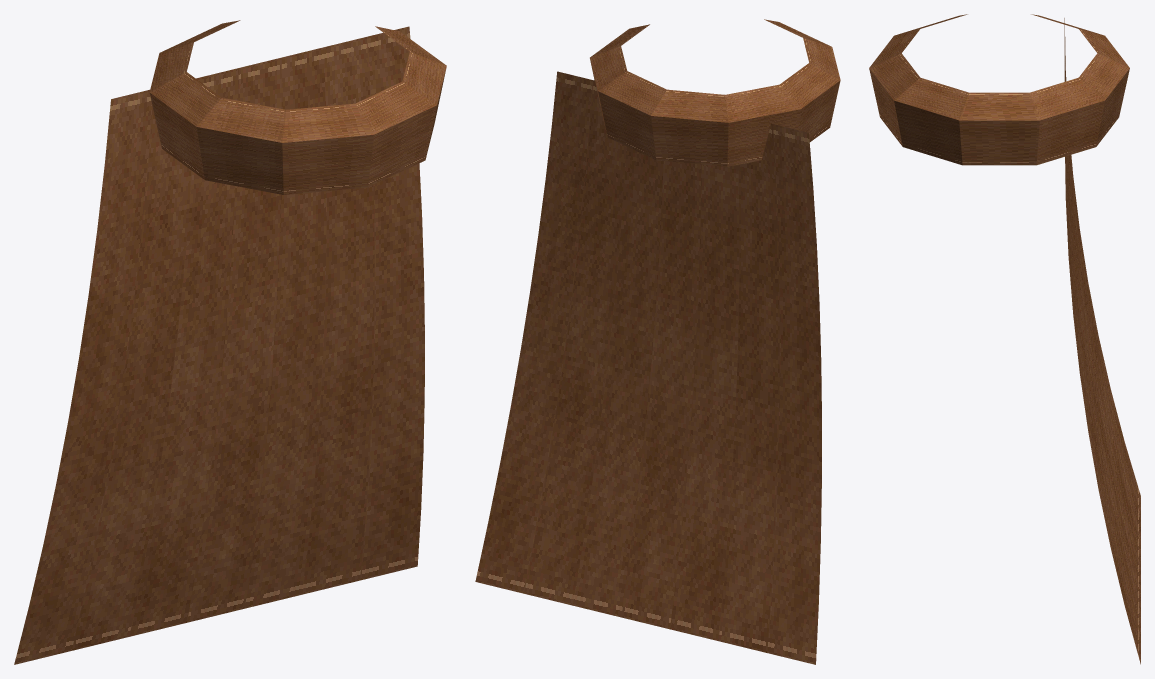
The model's file is manto_de_couro_encerado.glb.
The picture shows the model from 3 angles, left to right: view 1: azimuth 30°, elevation 25°; view 2: azimuth 150°, elevation 25°; view 3: azimuth 270°, elevation 25°; orthographic projection. The views are drawn at different scales.
Visible parts, largest first — view 1: Cloth_Cloak, Collar; view 2: Cloth_Cloak, Collar; view 3: Collar, Cloth_Cloak.
Boxes of the visible parts, x1,y1,x2,y2 form: Cloth_Cloak: (14,26,424,664); Collar: (149,20,446,194); Cloth_Cloak: (475,71,821,664); Collar: (590,19,840,166); Collar: (869,14,1129,165); Cloth_Cloak: (1064,18,1140,664).
Size of the model in its own units: 0.736 by 1.07 by 0.5.
2 materials, 2 textured.
